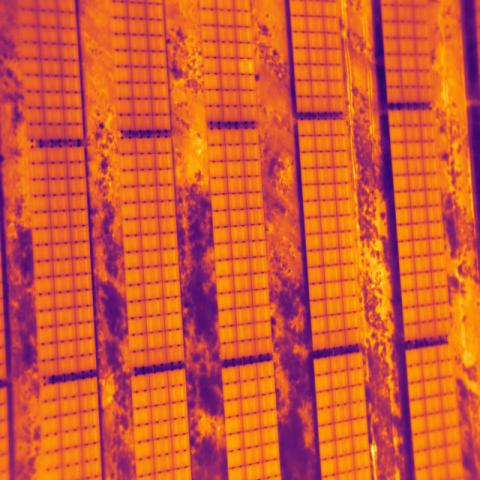fault: (238, 59, 254, 74)
